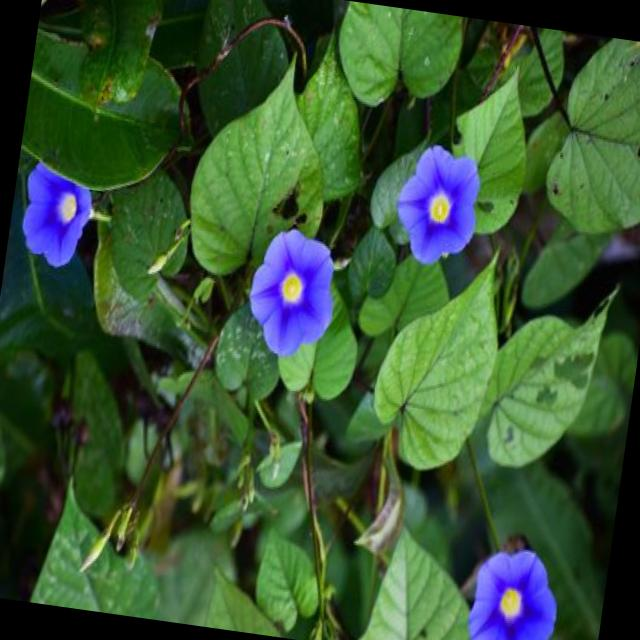ipomoea: (238, 219, 346, 367), (385, 134, 489, 274), (457, 534, 569, 640), (12, 156, 102, 276)
